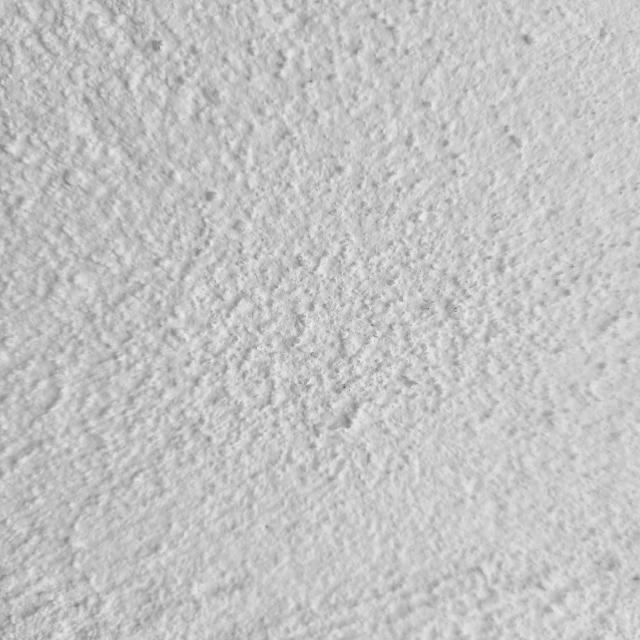rough and patchy surface: (9, 0, 637, 635)
